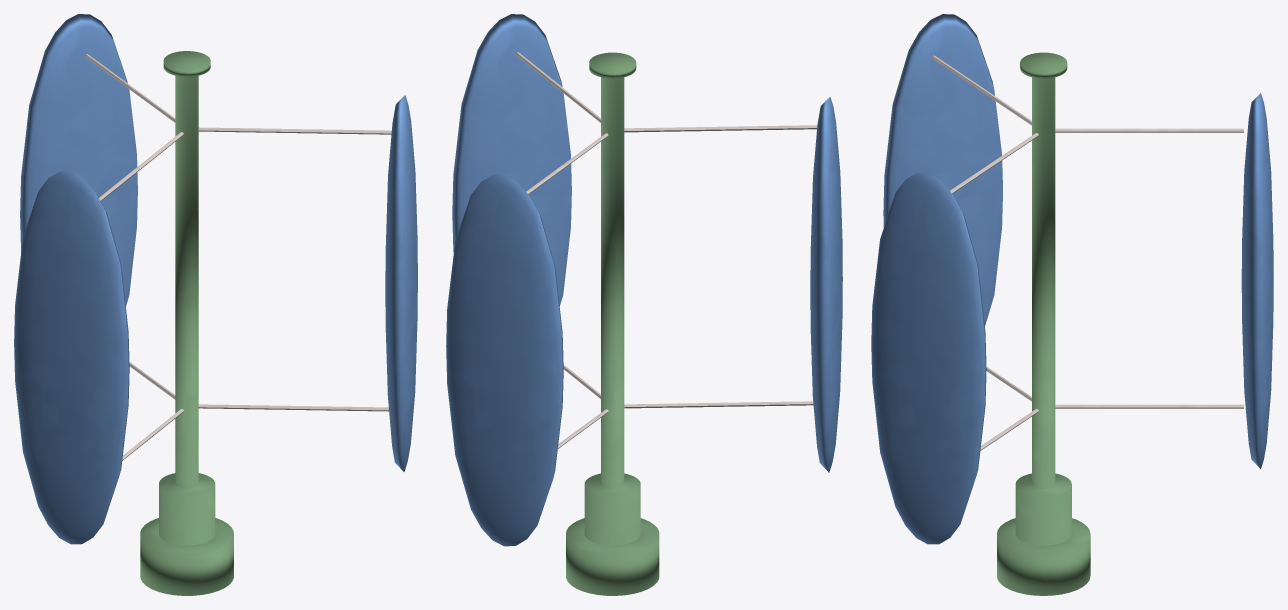
File: Ruzgar.fbx
The picture shows the model from 3 angles, left to right: view 1: azimuth 30°, elevation 25°; view 2: azimuth 150°, elevation 25°; view 3: azimuth 270°, elevation 25°; orthographic projection.
Parts seen in each view (by area): view 1: Ruzgar; view 2: Ruzgar; view 3: Ruzgar.
Boxes of the visible parts, x1,y1,x2,y2 form: Ruzgar: [14, 14, 417, 595]; Ruzgar: [446, 14, 842, 595]; Ruzgar: [871, 14, 1273, 595].
Bounding box in the file's own units: 66.49 × 84.73 × 60.17.
